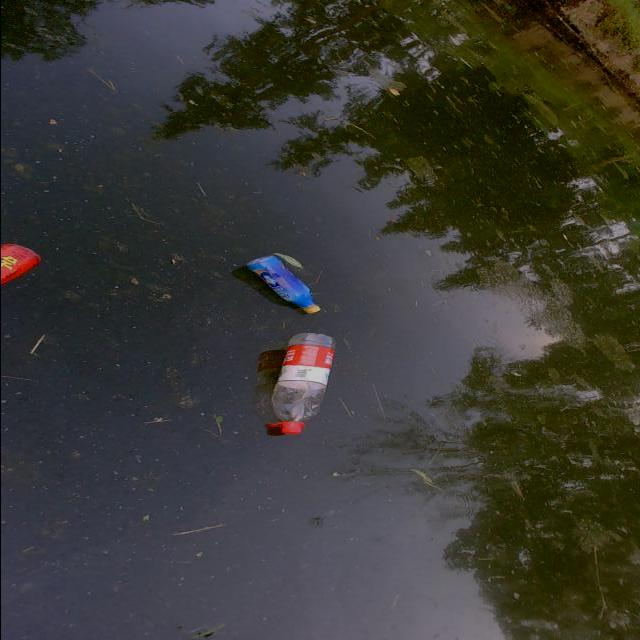bottle: (241, 316, 372, 450), (239, 249, 336, 321), (0, 228, 61, 334)
